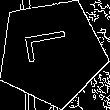L_E: (24, 33, 80, 72)
